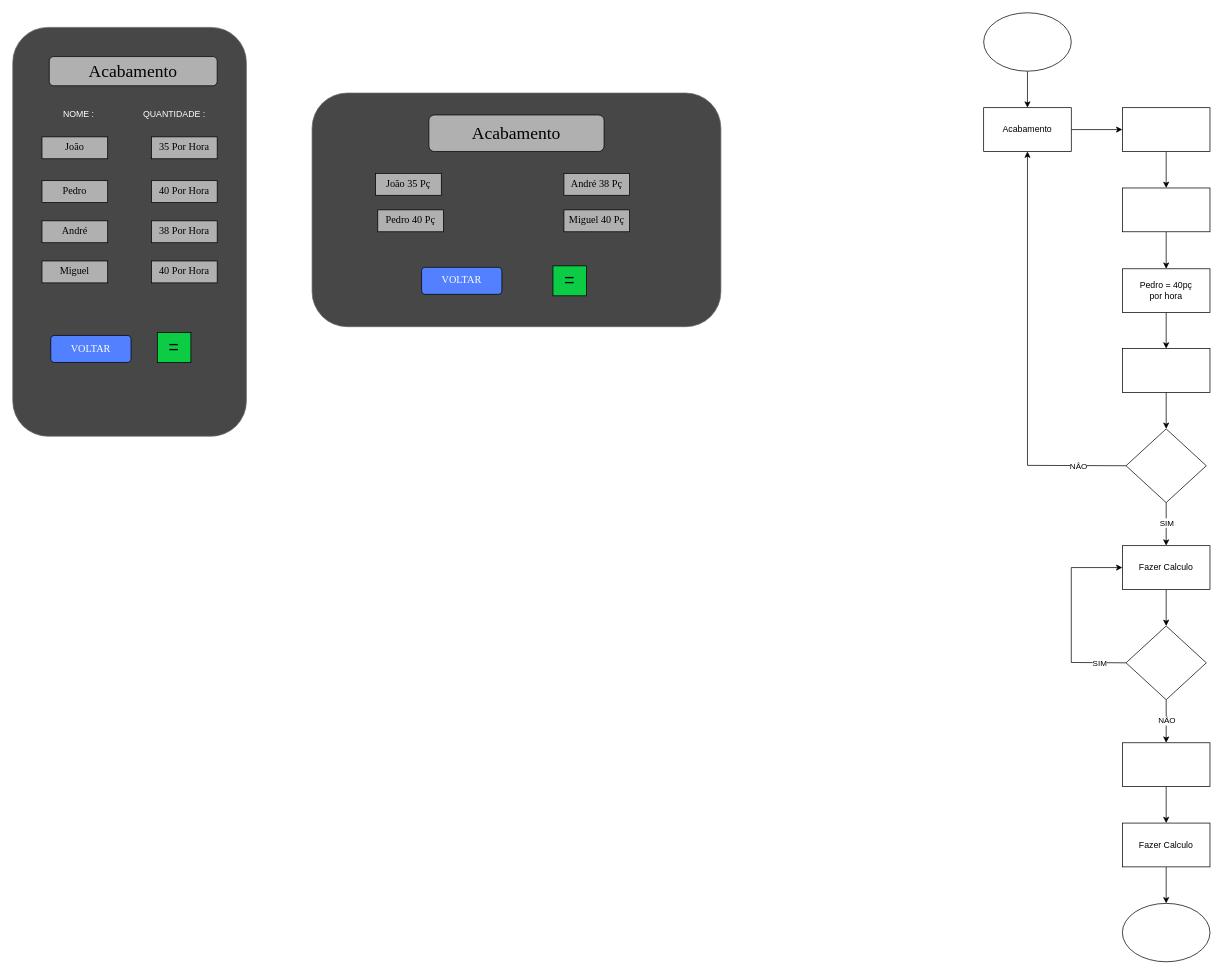
The diagram is 1223 pixels wide and 975 high, and some of its shapes have lost their labels. Here are the shapes that lost their labels. From the top down, the centre of each, then its label:
At point 1027,41: "Início".
At point 1166,129: "João = 35pç por hora".
At point 1166,209: "André = 38pç por hora".
At point 1166,370: "Miguel = 41pç por hora".
At point 1165,465: "Informações corretas?".
At point 1165,662: "Quantidade Correta?".
At point 1166,764: "Apagar".
At point 1166,932: "FIM".
